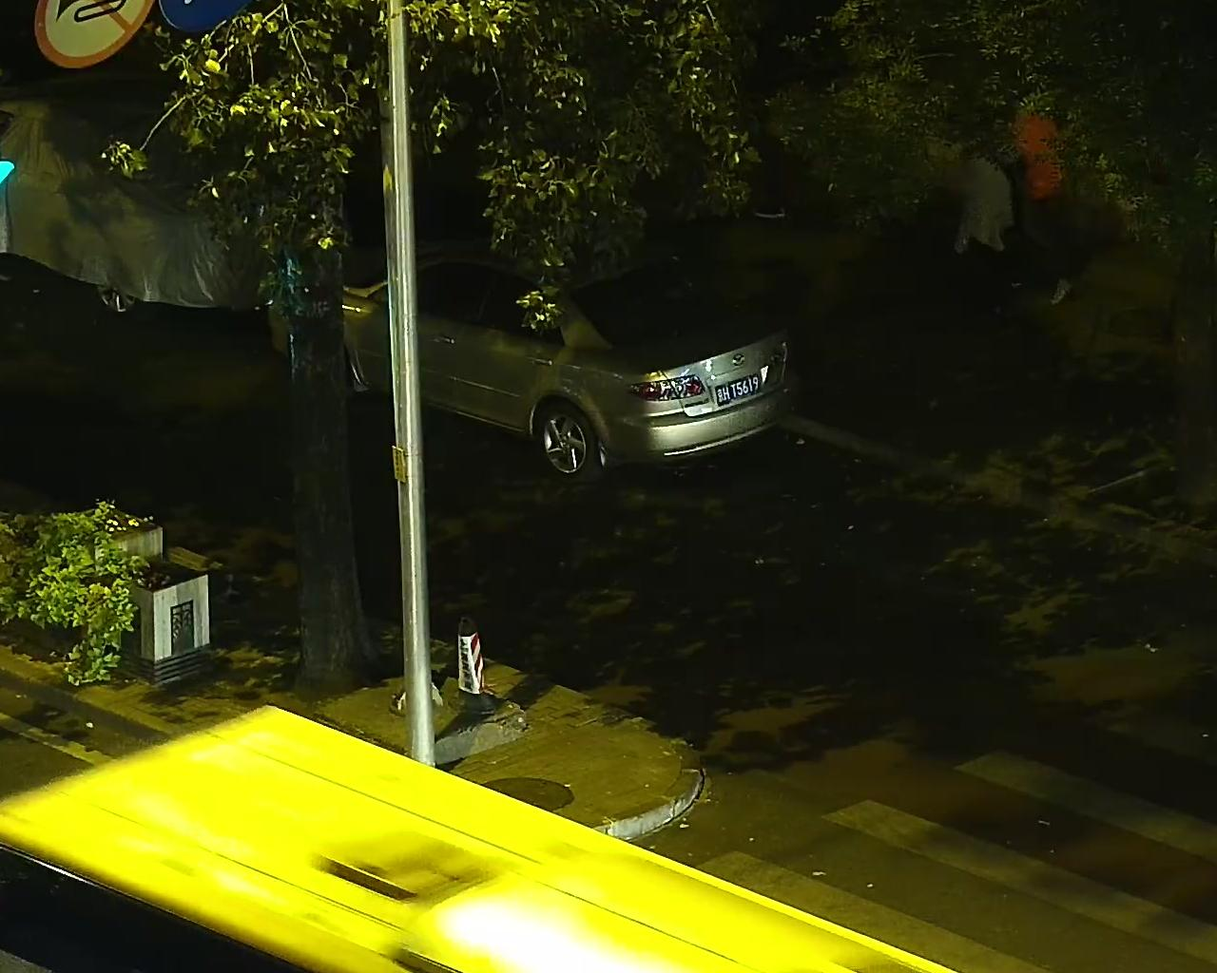person: (705, 1, 783, 225), (929, 112, 1009, 327), (989, 83, 1060, 309)
